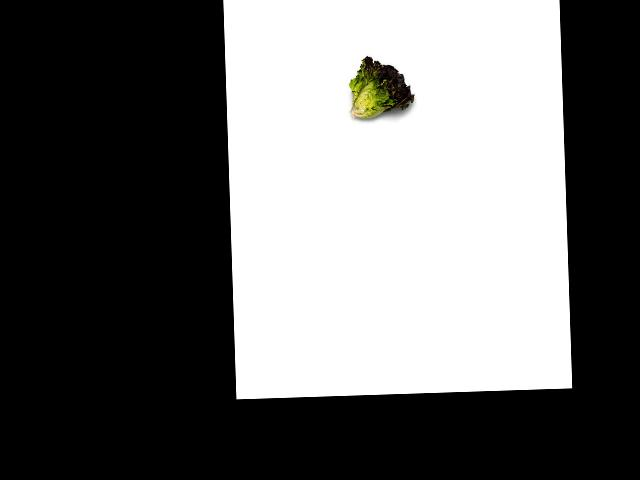lettuce: (346, 55, 419, 119)
